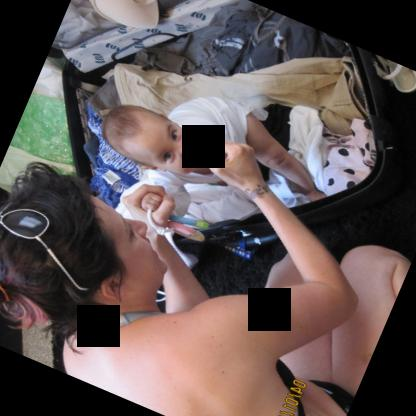suitcase: (47, 0, 410, 249)
